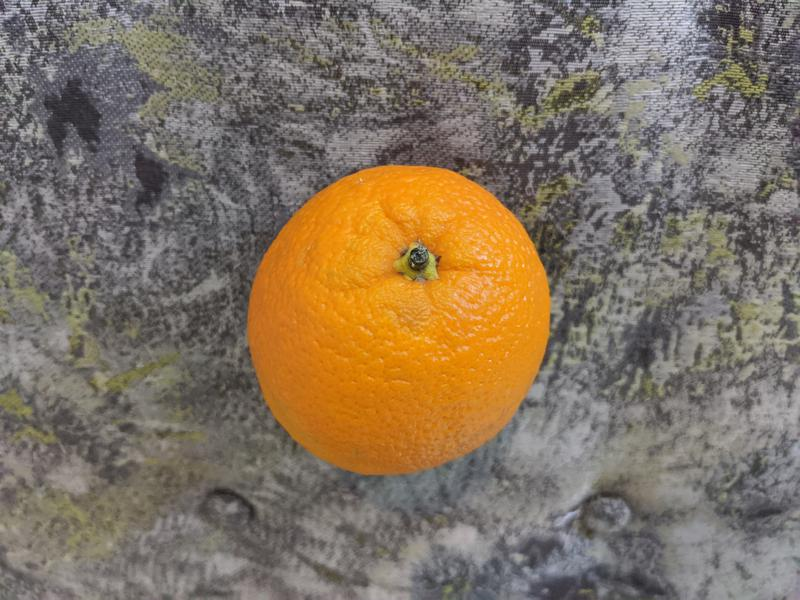orange: (245, 164, 553, 478)
